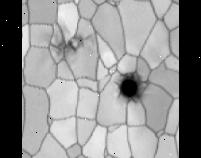good_void: (49, 20, 93, 60), (113, 68, 144, 103)
